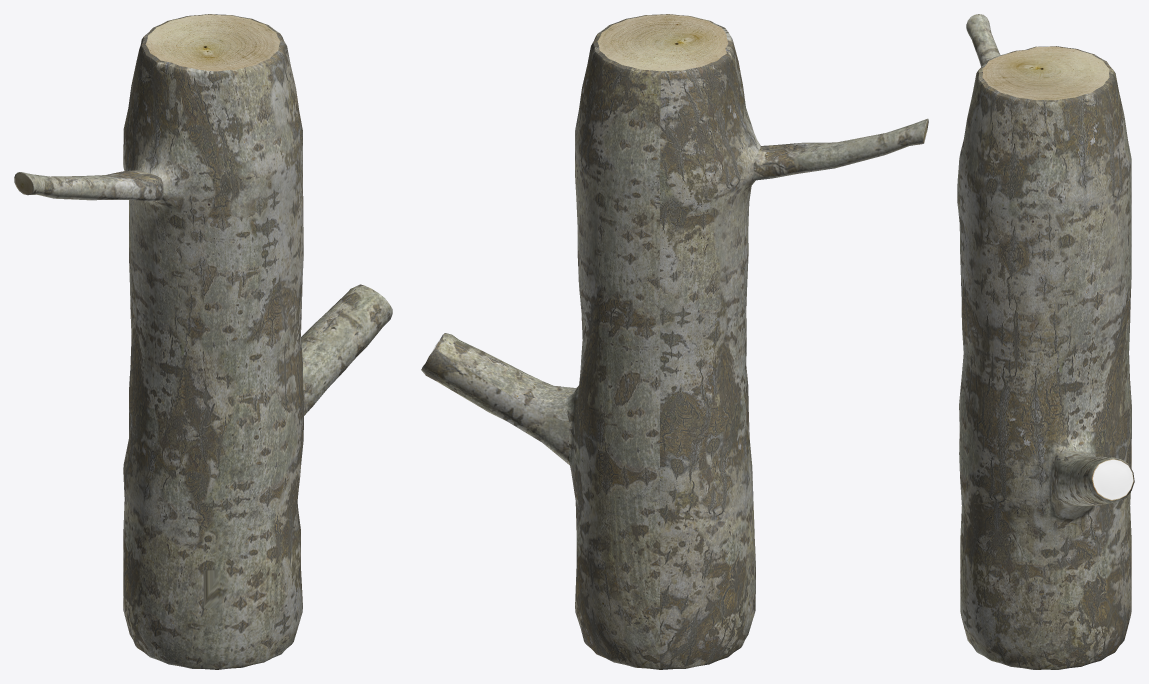
The picture shows the model from 3 angles, left to right: view 1: azimuth 30°, elevation 25°; view 2: azimuth 150°, elevation 25°; view 3: azimuth 270°, elevation 25°; orthographic projection. The views are drawn at different scales.
Parts seen in each view (by area): view 1: polySurface5, polySurface3; view 2: polySurface5, polySurface3; view 3: polySurface5, polySurface3, polySurface6.
Boxes of the visible parts, x1,y1,x2,y2 form: polySurface5: [14, 14, 392, 669]; polySurface3: [145, 14, 280, 71]; polySurface5: [421, 14, 928, 669]; polySurface3: [597, 14, 728, 71]; polySurface5: [957, 14, 1134, 669]; polySurface3: [982, 46, 1109, 100]; polySurface6: [1091, 459, 1133, 500].
Size of the model in its own units: 1.27 by 1.65 by 0.4682.
3 materials, 2 textured.
